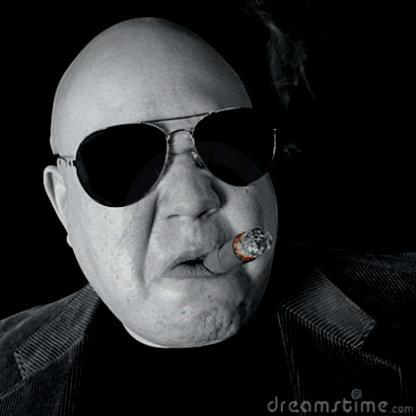cigarette: (200, 226, 272, 278)
person: (0, 15, 415, 415)
smoke: (254, 0, 346, 106)
